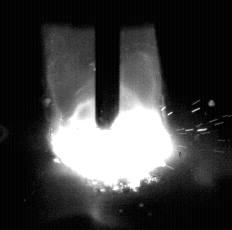arame: (95, 0, 121, 129)
poca: (50, 0, 177, 230)
